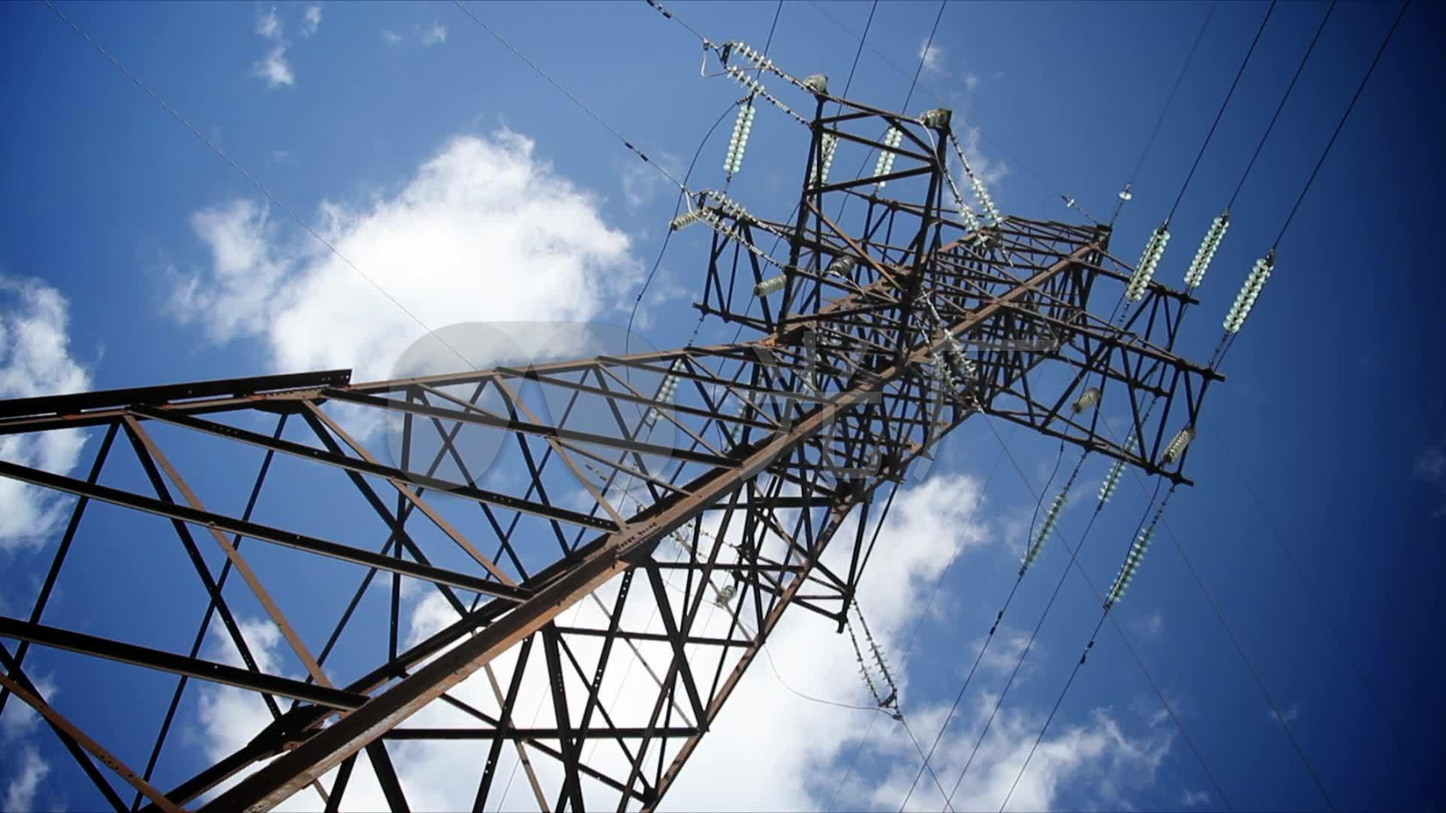power_tower: (0, 55, 1257, 813)
